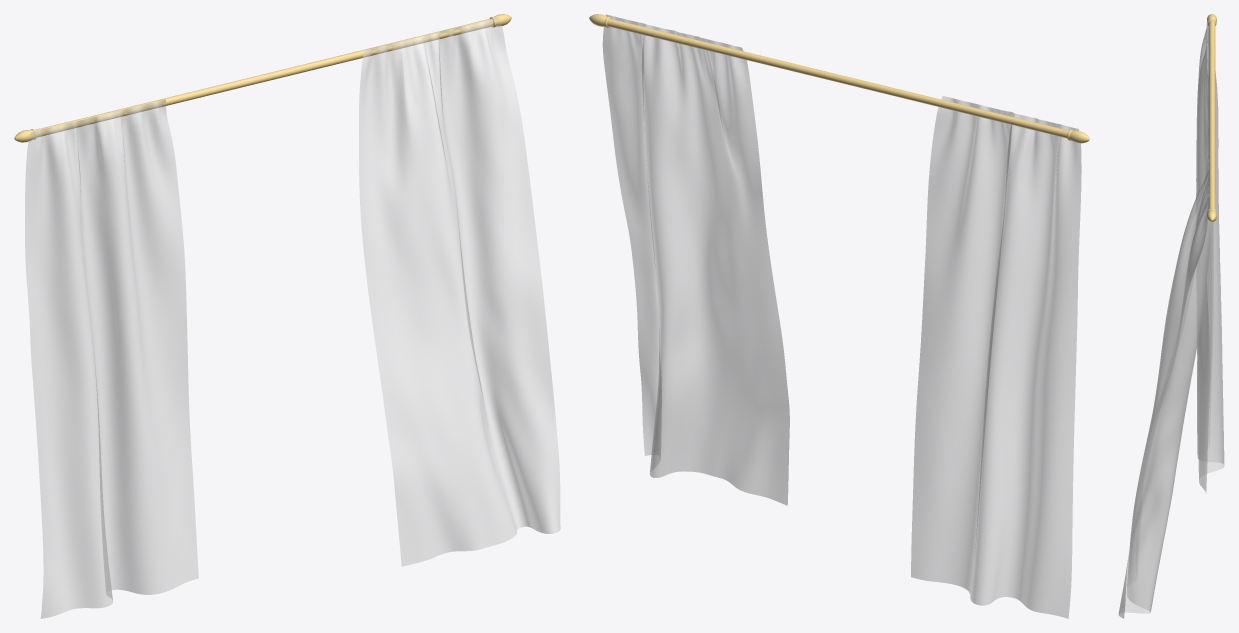
3 renders of one model, left to right at view 1: azimuth 30°, elevation 25°; view 2: azimuth 150°, elevation 25°; view 3: azimuth 270°, elevation 25°, orthographic. The views are drawn at different scales.
Visible parts, largest first — view 1: Curtain1 CurtainWind1, Curtain1 CurtainNWind1, CurtainPole Curtain1; view 2: Curtain1 CurtainNWind1, Curtain1 CurtainWind1, CurtainPole Curtain1; view 3: Curtain1 CurtainWind1, Curtain1 CurtainNWind1, CurtainPole Curtain1.
Part boxes in pixels (left/top/right/bottom): Curtain1 CurtainWind1: left=359, top=17, right=560, bottom=566; Curtain1 CurtainNWind1: left=25, top=99, right=198, bottom=618; CurtainPole Curtain1: left=14, top=14, right=511, bottom=142; Curtain1 CurtainNWind1: left=911, top=96, right=1081, bottom=618; Curtain1 CurtainWind1: left=602, top=14, right=789, bottom=505; CurtainPole Curtain1: left=589, top=14, right=1089, bottom=143; Curtain1 CurtainWind1: left=1118, top=155, right=1211, bottom=618; Curtain1 CurtainNWind1: left=1196, top=19, right=1224, bottom=493; CurtainPole Curtain1: left=1207, top=14, right=1216, bottom=221.
Size of the model in its own units: 2.49 by 2.34 by 0.5443.
3 materials, 3 textured.
